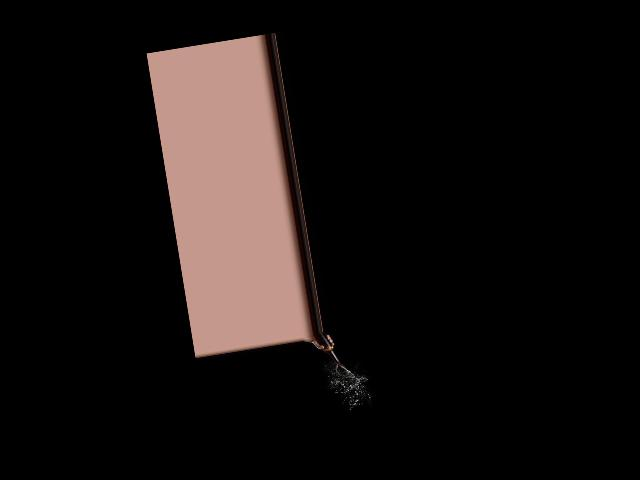beer: (311, 330, 340, 367)
